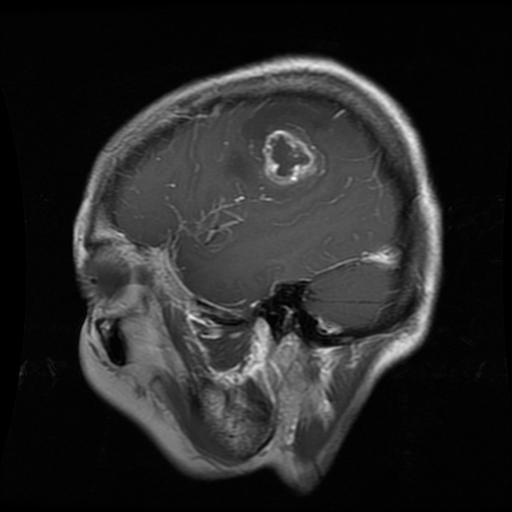Gliomia_tumour: (264, 127, 325, 183)
